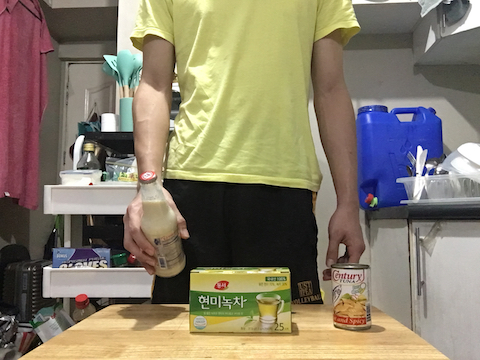bottle: (139, 168, 187, 278)
box: (186, 262, 298, 339)
can: (329, 258, 377, 333)
grab: (121, 198, 160, 278)
